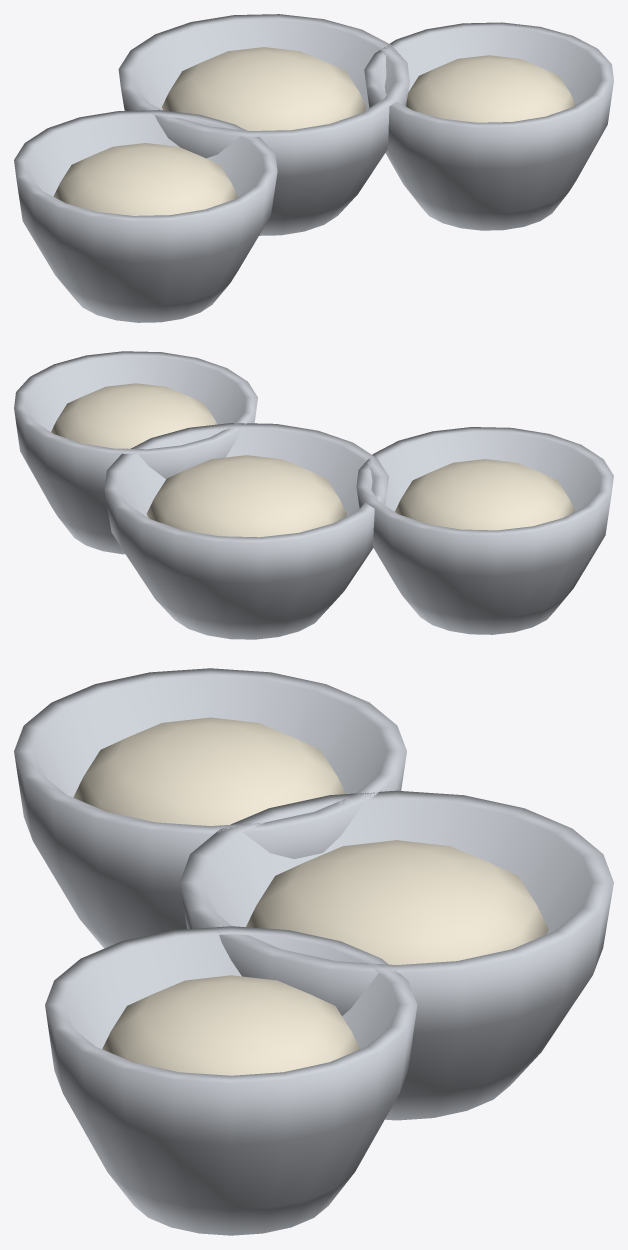
The model's file is silver-bowls-three.glb.
The picture shows the model from 3 angles, top to bottom: view 1: azimuth 30°, elevation 25°; view 2: azimuth 150°, elevation 25°; view 3: azimuth 270°, elevation 25°; orthographic projection. The views are drawn at different scales.
Visible parts, largest first — view 1: silver_bowls, bowl_offerings; view 2: silver_bowls, bowl_offerings; view 3: silver_bowls, bowl_offerings.
Part boxes in pixels (bbox=[...]): silver_bowls: bbox=[14, 14, 613, 322]; bowl_offerings: bbox=[53, 47, 575, 215]; silver_bowls: bbox=[14, 351, 613, 639]; bowl_offerings: bbox=[51, 383, 575, 537]; silver_bowls: bbox=[14, 668, 613, 1235]; bowl_offerings: bbox=[73, 717, 548, 1075].
Bounding box in the file's own units: 0.95 × 0.2162 × 0.58.
